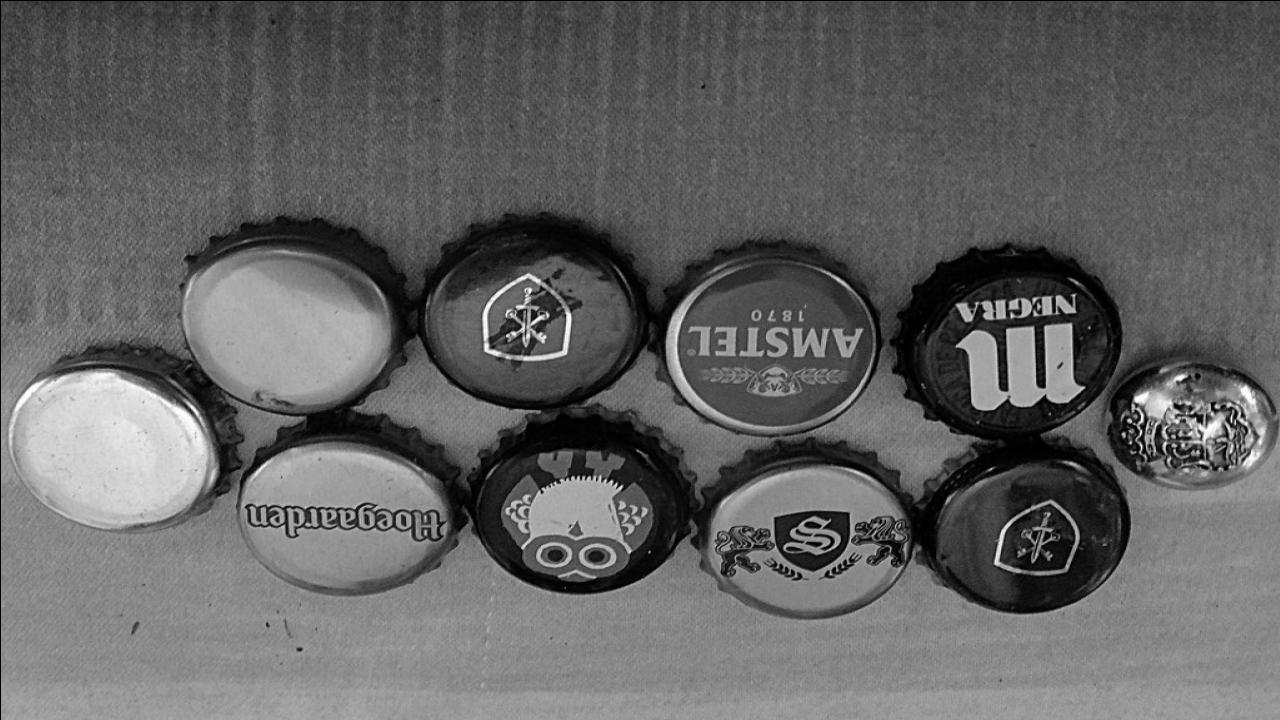bottle_cap: (178, 217, 410, 413), (413, 213, 645, 407), (652, 243, 882, 437), (5, 345, 235, 534), (465, 410, 696, 598), (894, 246, 1120, 434), (690, 437, 916, 619), (234, 414, 460, 594), (911, 437, 1129, 615)
